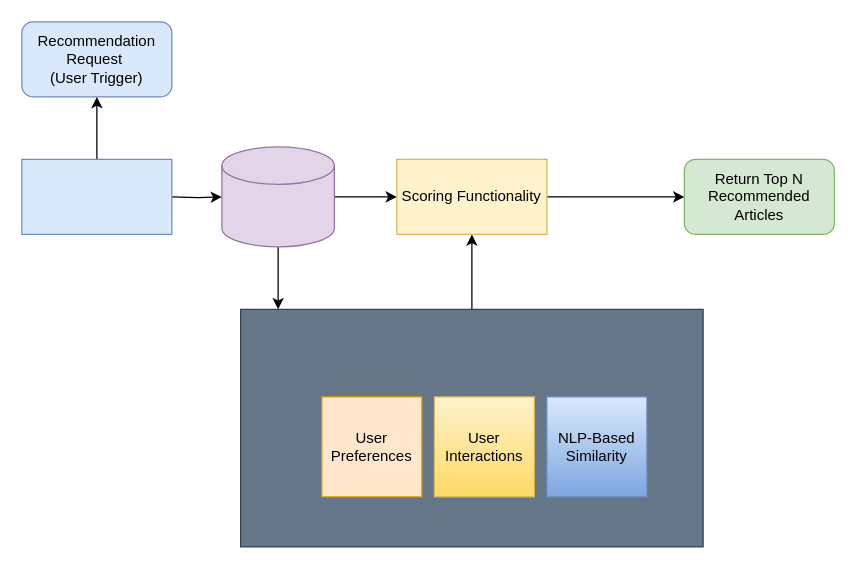
Image size: 856x569. Some labels were removed from this diagram. Here are the shapes that lost their labels. From the top down, the box of each, then its label:
(21, 158, 172, 234): Fetch Articles
(221, 146, 334, 247): PostgreSQL
(239, 308, 703, 547): User Profile Builder
